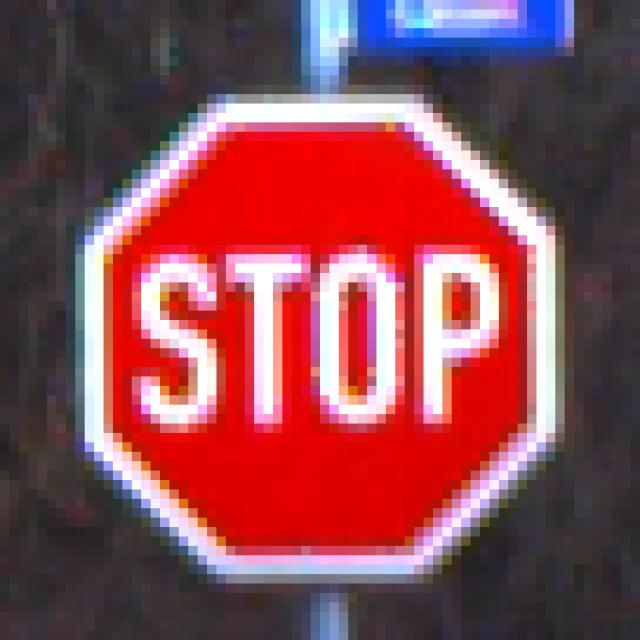STOP: (58, 67, 585, 584)
